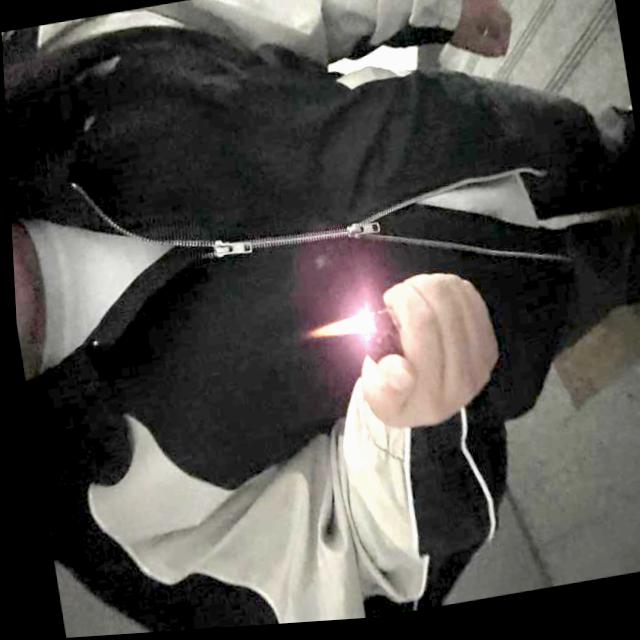helmet: (298, 313, 368, 348)
